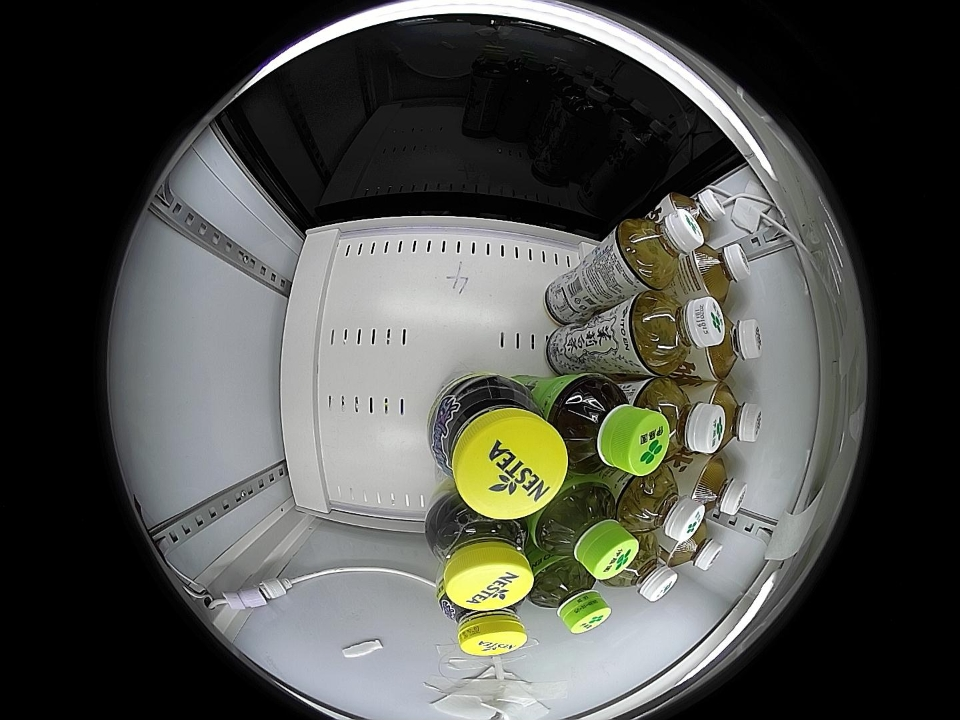baicha: (628, 292, 727, 376), (614, 200, 704, 289), (637, 378, 725, 457), (618, 470, 704, 542), (611, 535, 677, 602)
chacui: (428, 376, 568, 520), (425, 497, 534, 609), (439, 588, 528, 658)
rancha-2: (703, 381, 763, 451), (683, 242, 751, 303), (702, 315, 763, 380), (686, 455, 748, 518), (668, 188, 726, 242), (667, 518, 723, 572)
yitengyuan: (551, 376, 669, 476), (535, 479, 640, 580), (531, 558, 610, 635)
